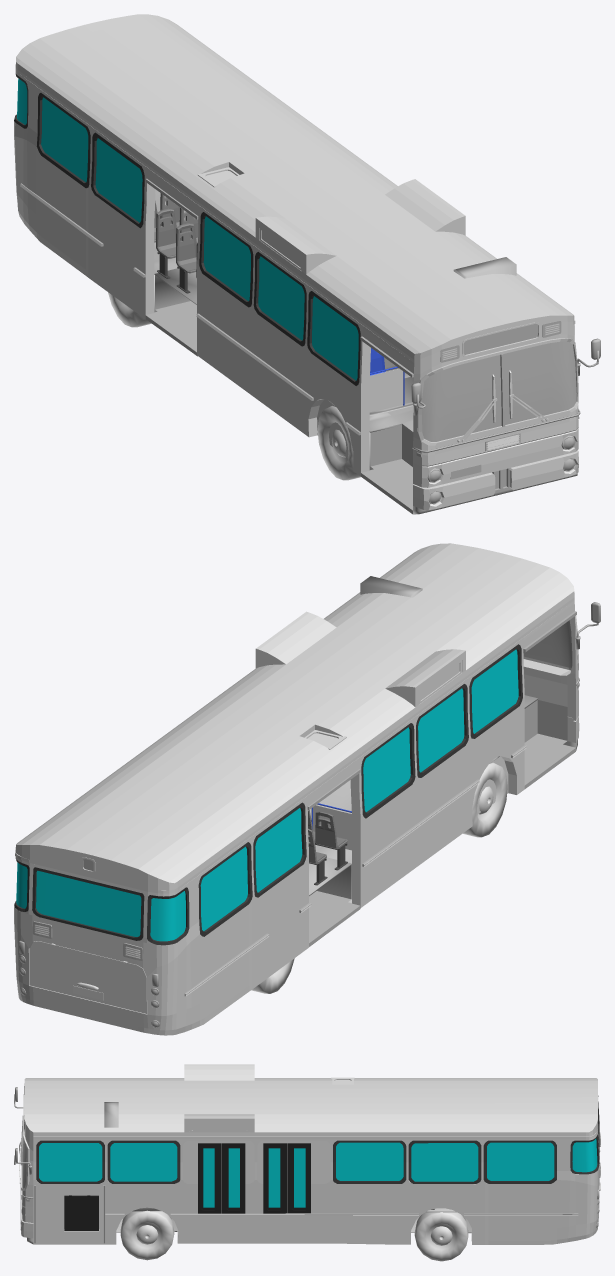
Rendered from mio.fbx.
3 renders of one model, top to bottom at view 1: azimuth 30°, elevation 25°; view 2: azimuth 150°, elevation 25°; view 3: azimuth 270°, elevation 25°, orthographic. The views are drawn at different scales.
Visible parts, largest first — view 1: Autobus, FrameElements(no edge split), sillas.014, Front Wheels, Cilindro.012; view 2: Autobus, FrameElements(no edge split), Lid, Front Wheels, sillas.014, Cilindro.001; view 3: Autobus, FrameElements(no edge split), Door3.002, Back Wheels, Front Wheels, Lid2.
Boxes of the visible parts, x1,y1,x2,y2 form: Autobus: [14, 14, 578, 510]; FrameElements(no edge split): [17, 78, 600, 514]; sillas.014: [154, 193, 385, 375]; Front Wheels: [317, 406, 370, 480]; Cilindro.012: [369, 366, 404, 412]; Autobus: [14, 543, 579, 1035]; FrameElements(no edge split): [16, 576, 600, 1027]; Lid: [29, 941, 147, 1013]; Front Wheels: [463, 762, 507, 837]; sillas.014: [308, 810, 347, 885]; Cilindro.001: [311, 803, 351, 850]; Autobus: [20, 1064, 599, 1244]; FrameElements(no edge split): [14, 1083, 600, 1243]; Door3.002: [198, 1143, 310, 1213]; Back Wheels: [414, 1212, 468, 1261]; Front Wheels: [120, 1210, 174, 1260]; Lid2: [64, 1195, 98, 1230].
Bounding box in the file's own units: 343 × 360 × 1329.
